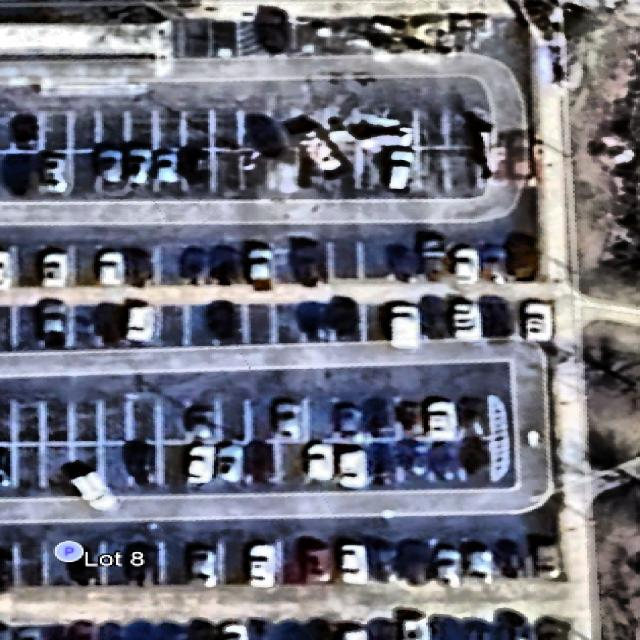Car: (388, 307, 421, 352), (179, 405, 220, 441), (271, 397, 304, 441), (38, 298, 68, 345), (187, 548, 219, 588), (38, 152, 66, 196), (437, 543, 464, 588), (302, 445, 333, 484), (306, 538, 332, 584), (340, 448, 365, 492), (245, 544, 269, 588), (92, 150, 123, 184), (126, 302, 151, 344), (390, 146, 412, 193), (428, 402, 455, 440), (100, 250, 128, 286), (452, 302, 480, 338), (525, 303, 552, 340), (453, 247, 480, 284), (41, 251, 67, 289), (341, 544, 365, 585), (531, 543, 559, 578), (339, 401, 362, 441), (248, 250, 273, 285), (424, 238, 444, 278), (159, 150, 183, 183), (189, 446, 208, 486), (221, 448, 242, 483), (536, 618, 567, 640), (404, 618, 432, 640), (130, 148, 146, 186), (187, 622, 218, 640), (73, 621, 100, 640), (44, 622, 71, 640), (338, 624, 367, 640), (16, 625, 44, 640), (224, 621, 245, 640), (102, 624, 126, 640), (0, 251, 10, 287)
Empty: (99, 398, 136, 443), (68, 398, 105, 442), (215, 538, 248, 585), (15, 540, 48, 587), (16, 444, 48, 492), (41, 402, 76, 444), (124, 403, 166, 438), (156, 443, 192, 483), (211, 150, 245, 191), (331, 239, 364, 279), (70, 104, 100, 147), (413, 110, 448, 146), (155, 108, 187, 147), (15, 399, 43, 443), (445, 147, 478, 184), (416, 151, 448, 189), (159, 542, 189, 582), (274, 306, 306, 343), (210, 109, 240, 148), (157, 306, 186, 346), (183, 110, 215, 146), (219, 402, 251, 438), (74, 306, 102, 346), (42, 108, 70, 148), (245, 304, 275, 341), (157, 306, 186, 344), (157, 246, 185, 285), (99, 302, 123, 346), (359, 302, 385, 340), (190, 304, 212, 345), (130, 109, 157, 142), (100, 112, 127, 144), (16, 303, 34, 344), (0, 305, 14, 347), (0, 398, 12, 442), (0, 111, 10, 148), (0, 152, 6, 190)
